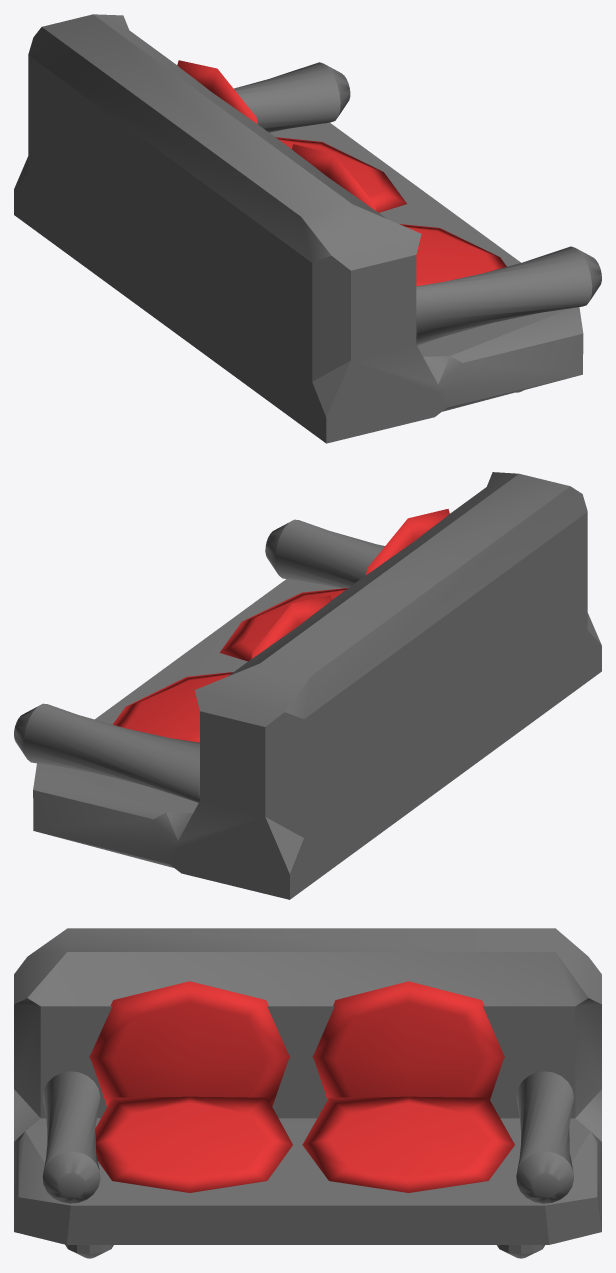
File: Couch.fbx
3 renders of one model, top to bottom at view 1: azimuth 30°, elevation 25°; view 2: azimuth 150°, elevation 25°; view 3: azimuth 270°, elevation 25°, orthographic. The views are drawn at different scales.
Visible parts, largest first — view 1: polySurface2, pCube4, pCube5, pCube2, pCube3; view 2: polySurface2, pCube5, pCube4, pCube2, pCube3; view 3: polySurface2, pCube2, pCube3, pCube5, pCube4.
Part boxes in pixels (x1,y1,x2,y2): polySurface2: (14, 14, 601, 443); pCube4: (399, 224, 506, 286); pCube5: (275, 137, 406, 212); pCube2: (292, 144, 375, 210); pCube3: (177, 60, 257, 123); polySurface2: (14, 472, 601, 899); pCube5: (112, 672, 233, 742); pCube4: (219, 588, 347, 661); pCube2: (366, 508, 449, 574); pCube3: (251, 595, 331, 658); polySurface2: (14, 928, 601, 1258); pCube2: (89, 981, 290, 1106); pCube3: (312, 981, 504, 1099); pCube5: (302, 1096, 514, 1192); pCube4: (95, 1096, 292, 1192).
Bounding box in the file's own units: 6.07 × 4.61 × 11.01.
